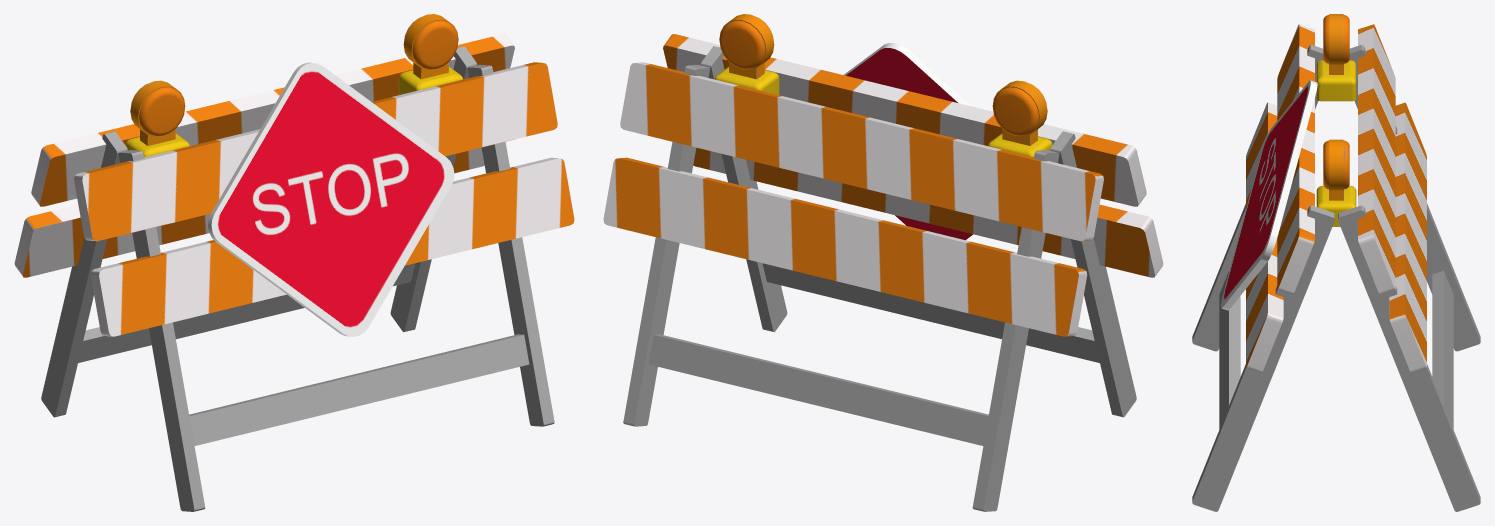
Rendered from stop.obj.
The picture shows the model from 3 angles, left to right: view 1: azimuth 30°, elevation 25°; view 2: azimuth 150°, elevation 25°; view 3: azimuth 270°, elevation 25°; orthographic projection. The views are drawn at different scales.
Parts seen in each view (by area): view 1: Front_Part Stkm_WorkSet_TrafficAlertSign Stkm_WorkSet_TrafficAle, Bottom_Part Stkm_WorkSet_TrafficAlertSign Stkm_WorkSet_TrafficAl, Alert_Lights Stkm_WorkSet_TrafficAlertSign Light Stkm_WorkSet_Tr; view 2: Bottom_Part Stkm_WorkSet_TrafficAlertSign Stkm_WorkSet_TrafficAl, Front_Part Stkm_WorkSet_TrafficAlertSign Stkm_WorkSet_TrafficAle, Alert_Lights Stkm_WorkSet_TrafficAlertSign Light Stkm_WorkSet_Tr; view 3: Front_Part Stkm_WorkSet_TrafficAlertSign Stkm_WorkSet_TrafficAle, Bottom_Part Stkm_WorkSet_TrafficAlertSign Stkm_WorkSet_TrafficAl, Alert_Lights Stkm_WorkSet_TrafficAlertSign Light Stkm_WorkSet_Tr.
Boxes of the visible parts, <box> form: Front_Part Stkm_WorkSet_TrafficAlertSign Stkm_WorkSet_TrafficAle: <box>74,62,574,511</box>; Bottom_Part Stkm_WorkSet_TrafficAlertSign Stkm_WorkSet_TrafficAl: <box>14,34,514,417</box>; Alert_Lights Stkm_WorkSet_TrafficAlertSign Light Stkm_WorkSet_Tr: <box>125,14,463,157</box>; Bottom_Part Stkm_WorkSet_TrafficAlertSign Stkm_WorkSet_TrafficAl: <box>603,62,1103,511</box>; Front_Part Stkm_WorkSet_TrafficAlertSign Stkm_WorkSet_TrafficAle: <box>663,34,1163,417</box>; Alert_Lights Stkm_WorkSet_TrafficAlertSign Light Stkm_WorkSet_Tr: <box>714,14,1052,157</box>; Front_Part Stkm_WorkSet_TrafficAlertSign Stkm_WorkSet_TrafficAle: <box>1192,24,1334,511</box>; Bottom_Part Stkm_WorkSet_TrafficAlertSign Stkm_WorkSet_TrafficAl: <box>1338,24,1480,511</box>; Alert_Lights Stkm_WorkSet_TrafficAlertSign Light Stkm_WorkSet_Tr: <box>1316,14,1356,226</box>.
Bounding box in the file's own units: 427 × 325 × 243.
